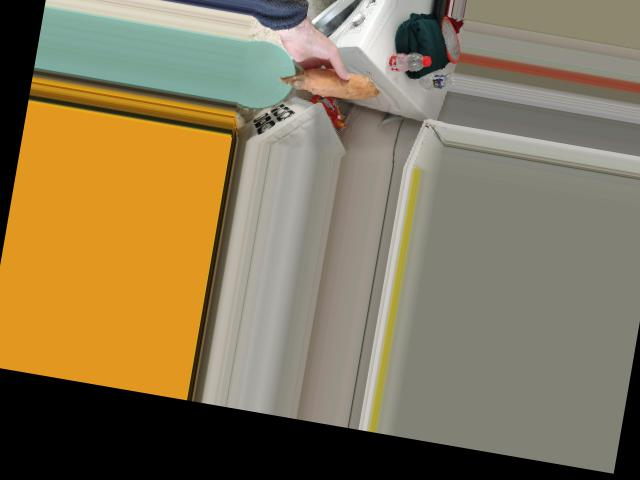sweet_potato: (286, 58, 370, 102)
